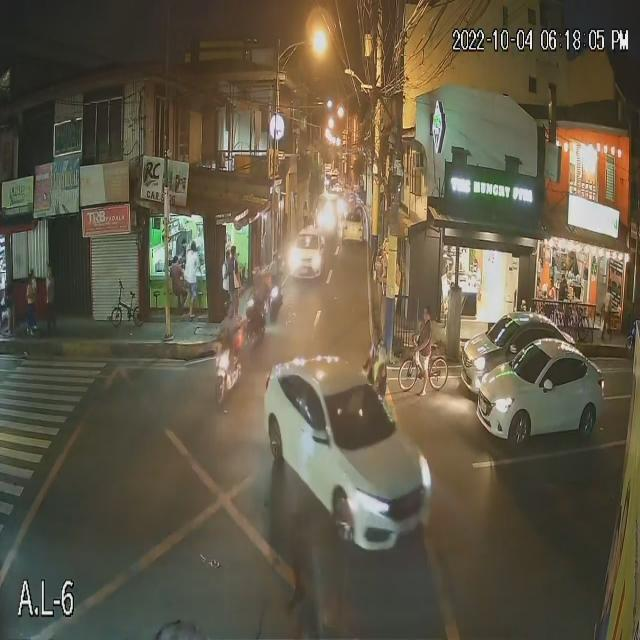motorcycle: (208, 356, 246, 399), (238, 308, 261, 334), (268, 284, 286, 311)
rider: (217, 331, 234, 369)
